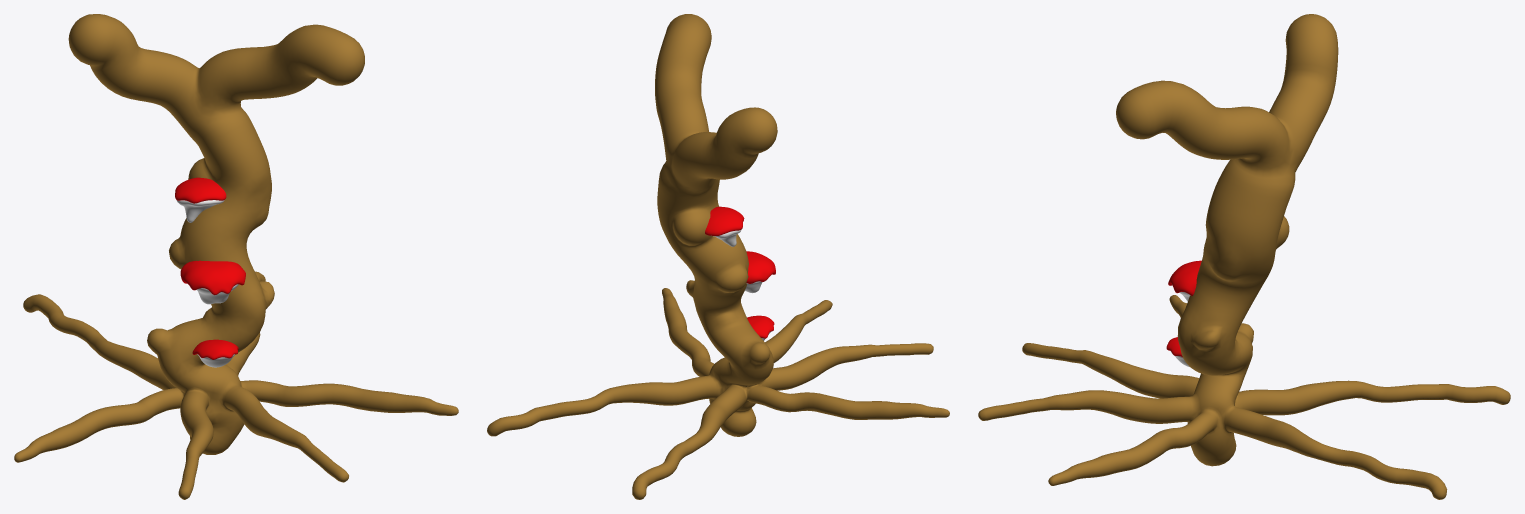
Rendered from hugetree.glb.
The picture shows the model from 3 angles, left to right: view 1: azimuth 30°, elevation 25°; view 2: azimuth 150°, elevation 25°; view 3: azimuth 270°, elevation 25°; orthographic projection. The views are drawn at different scales.
Parts seen in each view (by area): view 1: Retopo_Layer_1.001, Retopo_Layer_4.001, Retopo_Layer_5.001; view 2: Retopo_Layer_1.001, Retopo_Layer_4.001; view 3: Retopo_Layer_1.001, Retopo_Layer_4.001.
Boxes of the visible parts, <box> form: Retopo_Layer_1.001: <box>14,14,458,499</box>; Retopo_Layer_4.001: <box>175,177,245,359</box>; Retopo_Layer_5.001: <box>176,200,238,367</box>; Retopo_Layer_1.001: <box>487,14,949,499</box>; Retopo_Layer_4.001: <box>705,206,775,338</box>; Retopo_Layer_1.001: <box>978,14,1510,499</box>; Retopo_Layer_4.001: <box>1166,260,1201,357</box>.
Size of the model in its own units: 11.3 by 11.93 by 13.66.
